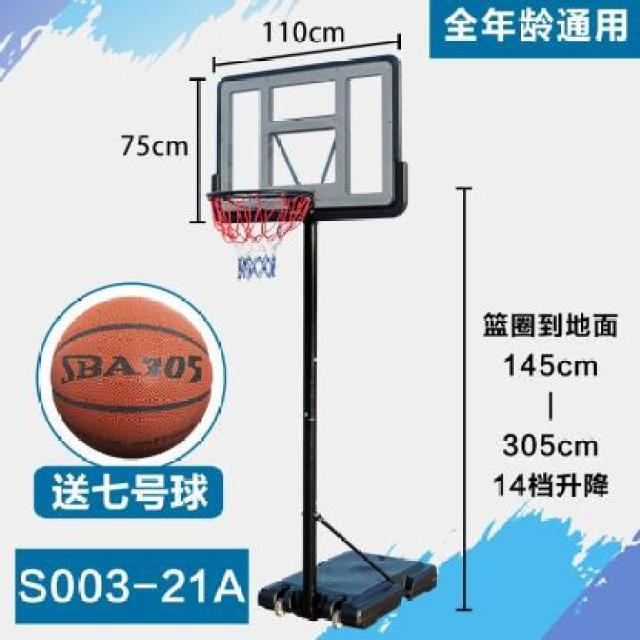basketball: (49, 293, 214, 459)
rim: (208, 190, 312, 282)
